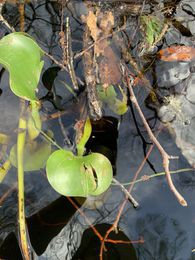water_hyacinth: (1, 25, 122, 195)
